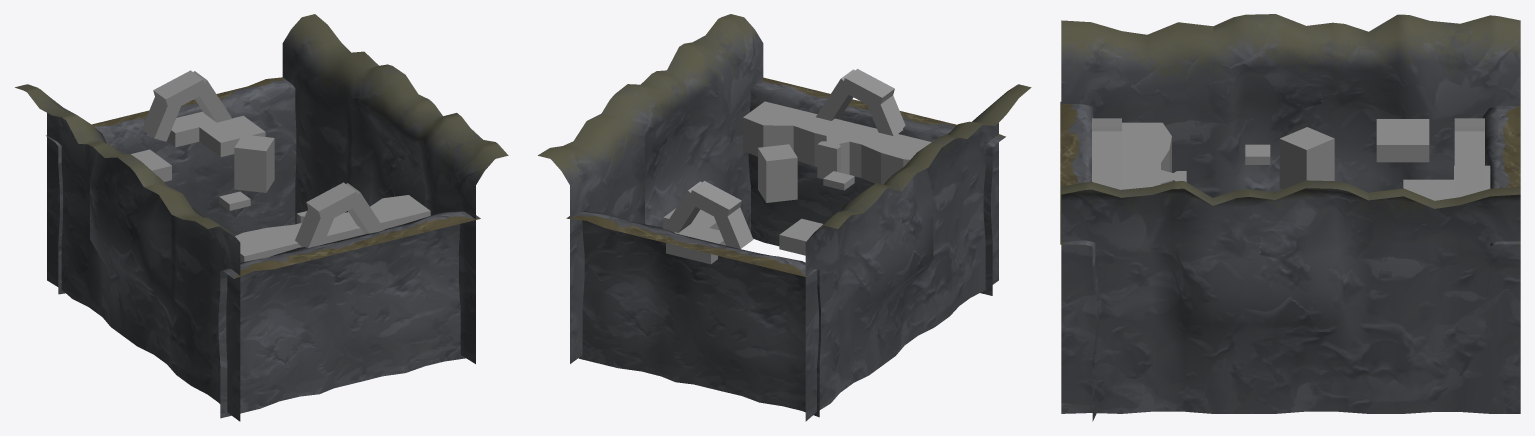
The model's file is TarGreybox.fbx.
The picture shows the model from 3 angles, left to right: view 1: azimuth 30°, elevation 25°; view 2: azimuth 150°, elevation 25°; view 3: azimuth 270°, elevation 25°; orthographic projection. The views are drawn at different scales.
Parts seen in each view (by area): view 1: NewWall__2_, NewLongWall__1_, NewWall__1_, NewLongWall, Cube__6_, Cube__7_, Cube__10_, Cube__13_, Cube__4_, Cube__3_, Cube__11_, Cube__12_ (+3 smaller); view 2: NewWall__2_, NewLongWall, NewWall__1_, NewLongWall__1_, Cube__6_, Cube__7_, Cube__13_, Cube__11_, Cube__12_, Cube__4_, Cube__3_, Cube__9_ (+2 smaller); view 3: NewWall__1_, NewWall__2_, NewLongWall__1_, Cube__6_, NewLongWall, Cube__7_, Cube__9_, Cube__14_, Cube__5_, Cube__10_, Cube__8_, Cube__13_.
Part boxes in pixels (box(x1,y1,x2,y2)): NewWall__2_: box(15, 84, 240, 421); NewLongWall__1_: box(218, 210, 480, 418); NewWall__1_: box(282, 14, 508, 363); NewLongWall: box(46, 77, 296, 294); Cube__6_: box(235, 195, 430, 262); Cube__7_: box(234, 134, 274, 192); Cube__10_: box(199, 115, 265, 156); Cube__13_: box(153, 70, 206, 112); Cube__4_: box(306, 182, 359, 222); Cube__3_: box(295, 209, 335, 248); Cube__11_: box(167, 111, 216, 147); Cube__12_: box(142, 97, 181, 141); NewWall__2_: box(805, 84, 1031, 421); NewLongWall: box(566, 211, 820, 417); NewWall__1_: box(538, 14, 763, 363); NewLongWall__1_: box(748, 77, 1005, 295); Cube__6_: box(743, 101, 931, 184); Cube__7_: box(758, 144, 797, 202); Cube__13_: box(688, 181, 741, 222); Cube__11_: box(666, 223, 725, 264); Cube__12_: box(712, 207, 753, 248); Cube__4_: box(841, 69, 894, 104); Cube__3_: box(865, 95, 905, 135); Cube__9_: box(779, 218, 822, 255); NewWall__1_: box(1061, 180, 1520, 413); NewWall__2_: box(1061, 14, 1520, 197); NewLongWall__1_: box(1060, 101, 1099, 421); Cube__6_: box(1122, 122, 1186, 189); NewLongWall: box(1482, 105, 1520, 359); Cube__7_: box(1279, 127, 1334, 189); Cube__9_: box(1376, 119, 1429, 162); Cube__14_: box(1454, 131, 1484, 197); Cube__5_: box(1092, 131, 1121, 189); Cube__10_: box(1403, 179, 1454, 200); Cube__8_: box(1245, 144, 1270, 164); Cube__13_: box(1454, 118, 1484, 131).
Bounding box in the file's own units: 11025 × 7381 × 12311.
